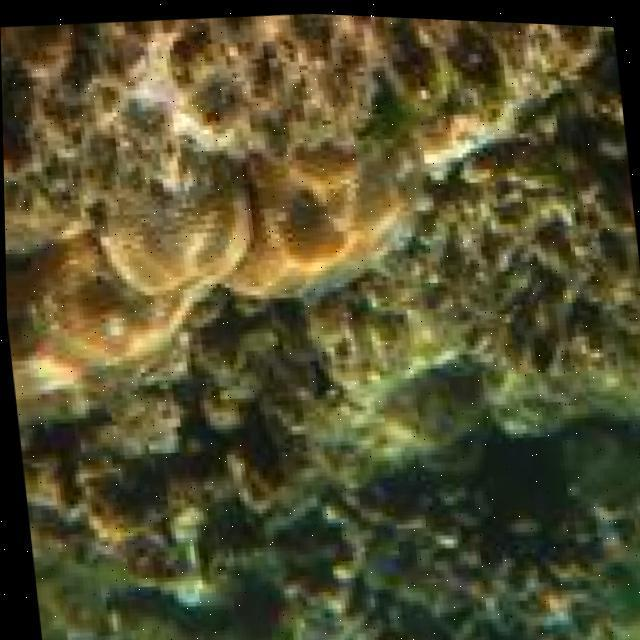Dead Coral: (17, 37, 638, 630)
